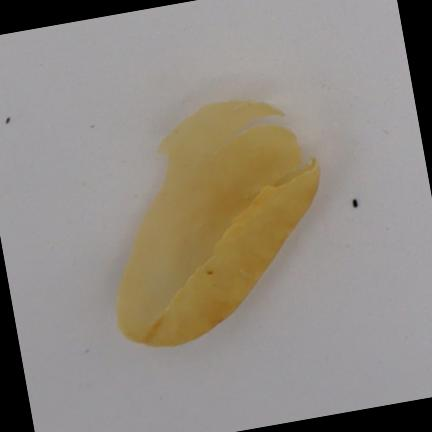parchment: (117, 100, 319, 345)
